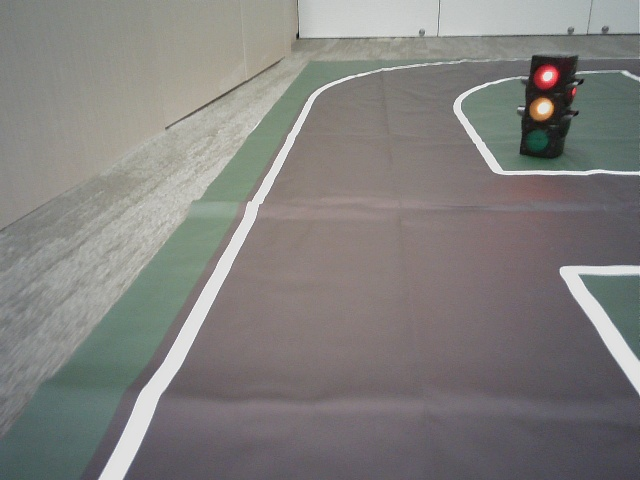red: (529, 60, 556, 154)
